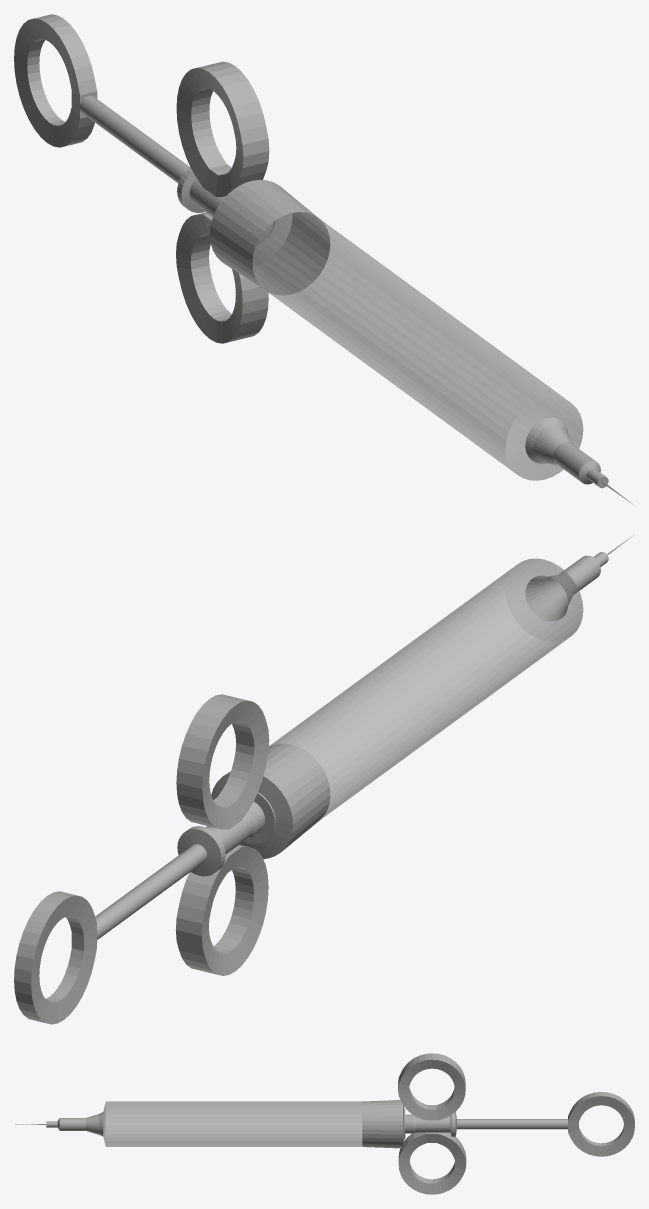
File: syrine.fbx
3 views of the same model, one above another, from view 1: azimuth 30°, elevation 25°; view 2: azimuth 150°, elevation 25°; view 3: azimuth 270°, elevation 25° (orthographic). The views are drawn at different scales.
Visible parts, largest first — view 1: Circle; view 2: Circle; view 3: Circle.
Part boxes in pixels (x1=…): Circle: x1=14, y1=14, x2=634, y2=505; Circle: x1=14, y1=534, x2=634, y2=1024; Circle: x1=15, y1=1053, x2=634, y2=1194.
Size of the model in its own units: 31.83 by 97.48 by 406.
Materials: 2 (1 with a texture image).
